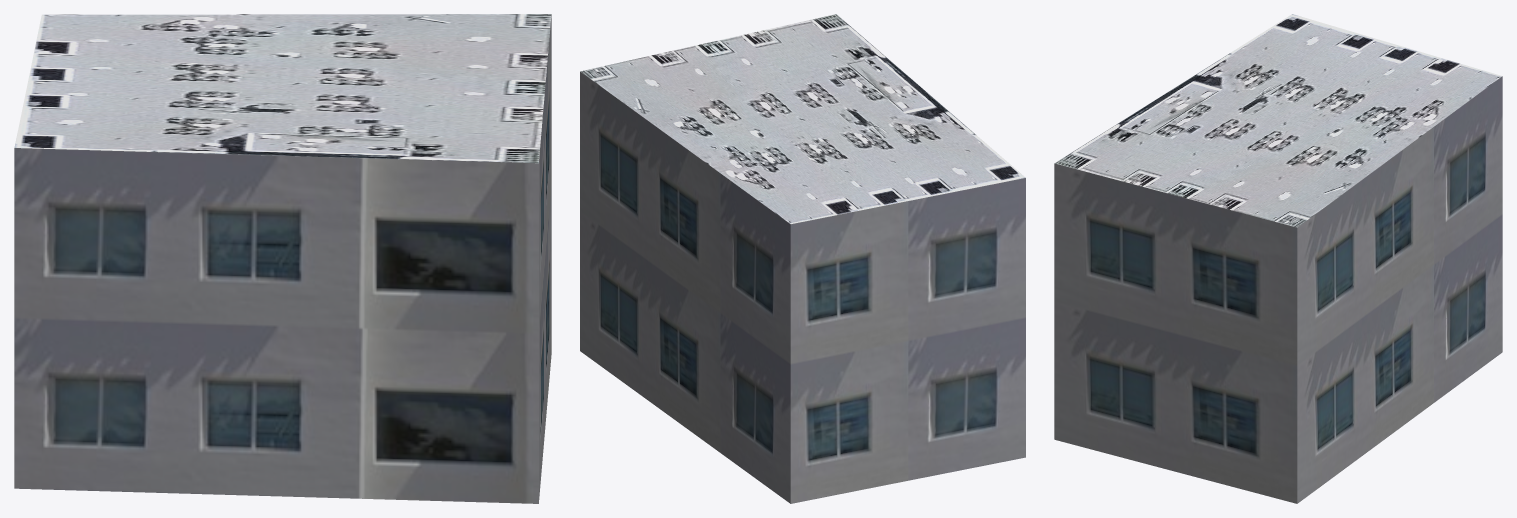
File: ResTex__4863.fbx
3 views of the same model, side by side, from view 1: azimuth 30°, elevation 25°; view 2: azimuth 150°, elevation 25°; view 3: azimuth 270°, elevation 25° (orthographic). The views are drawn at different scales.
Parts seen in each view (by area): view 1: CityEngineMaterial_10_m, CityEngineMaterial_4_m; view 2: CityEngineMaterial_10_m, CityEngineMaterial_4_m; view 3: CityEngineMaterial_10_m, CityEngineMaterial_4_m.
Boxes of the visible parts, x1,y1,x2,y2 form: CityEngineMaterial_10_m: [14, 15, 551, 503]; CityEngineMaterial_4_m: [14, 14, 551, 163]; CityEngineMaterial_10_m: [580, 71, 1025, 503]; CityEngineMaterial_4_m: [580, 14, 1025, 223]; CityEngineMaterial_10_m: [1054, 76, 1502, 503]; CityEngineMaterial_4_m: [1054, 14, 1502, 227].
Bounding box in the file's own units: 9.95 × 6 × 8.82.
2 materials, 2 textured.
